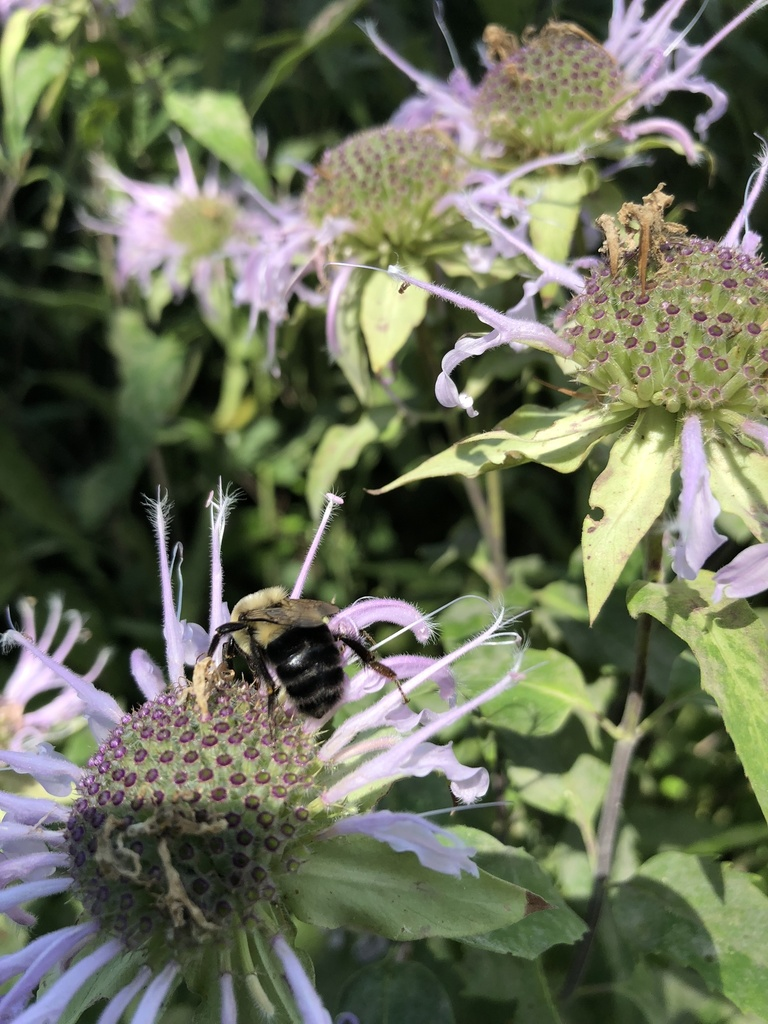bumblebee: (205, 585, 412, 721)
